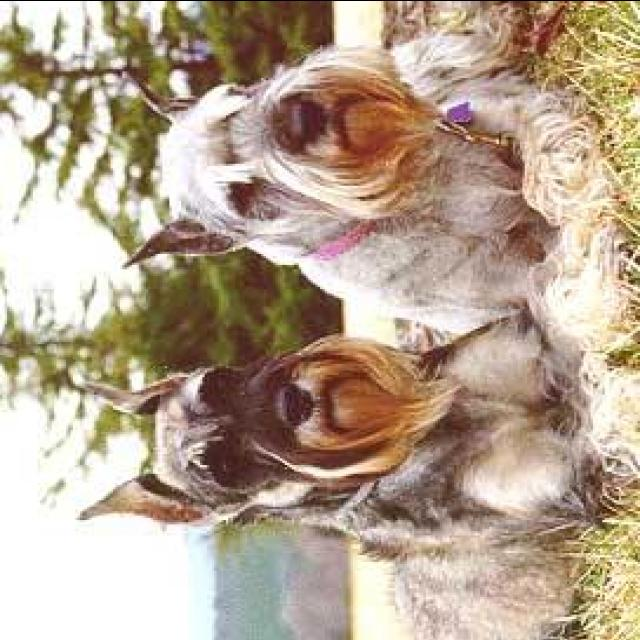standard_schnauzer: (75, 262, 637, 640), (113, 2, 638, 336)
